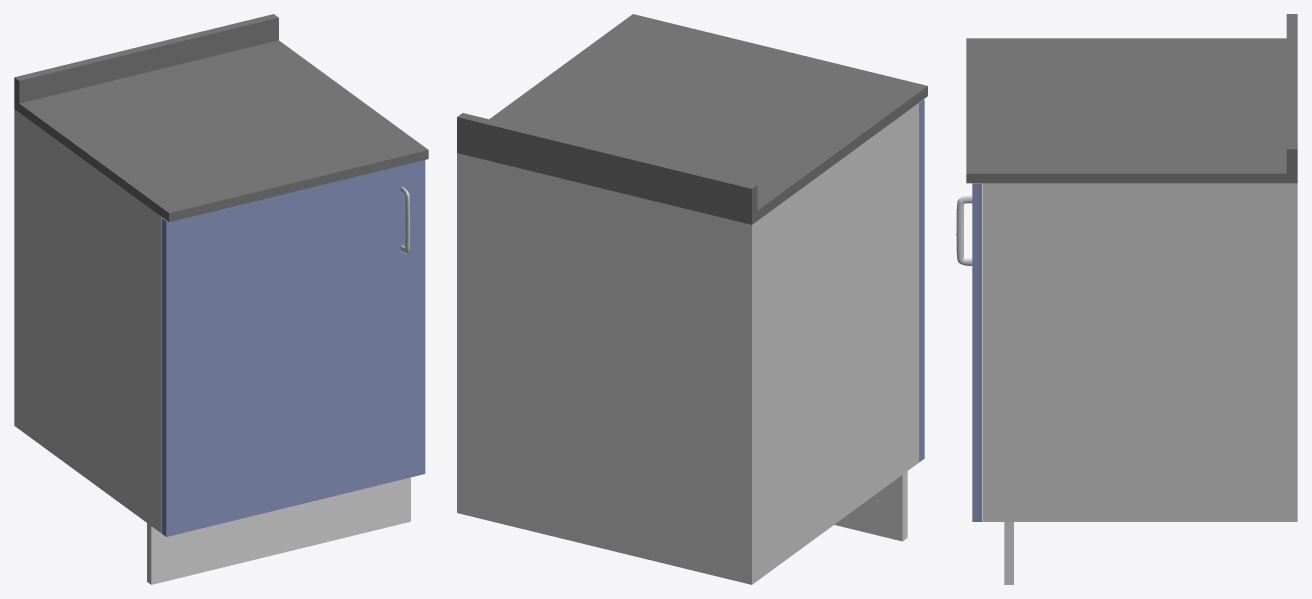
Rendered from Cabinet2.fbx.
3 views of the same model, side by side, from view 1: azimuth 30°, elevation 25°; view 2: azimuth 150°, elevation 25°; view 3: azimuth 270°, elevation 25° (orthographic). The views are drawn at different scales.
Visible parts, largest first — view 1: Cabinet1_Door, Countertop1, Cabinet1, Baseboard1; view 2: Cabinet1, Countertop1, Baseboard1, Cabinet1_Door; view 3: Cabinet1, Countertop1, Cabinet1_Door, Handle, Baseboard1.
Part boxes in pixels (box(x1,y1,x2,y2)): Cabinet1_Door: box(162, 160, 425, 536); Countertop1: box(14, 14, 428, 222); Cabinet1: box(14, 109, 162, 533); Baseboard1: box(147, 477, 410, 584); Cabinet1: box(457, 103, 919, 584); Countertop1: box(457, 14, 927, 224); Baseboard1: box(834, 471, 907, 541); Cabinet1_Door: box(919, 99, 924, 461); Cabinet1: box(982, 183, 1297, 521); Countertop1: box(966, 14, 1297, 183); Cabinet1_Door: box(972, 183, 981, 521); Handle: box(956, 196, 972, 265); Baseboard1: box(1004, 522, 1013, 584).
Size of the model in its own units: 60 by 90 by 63.86.
